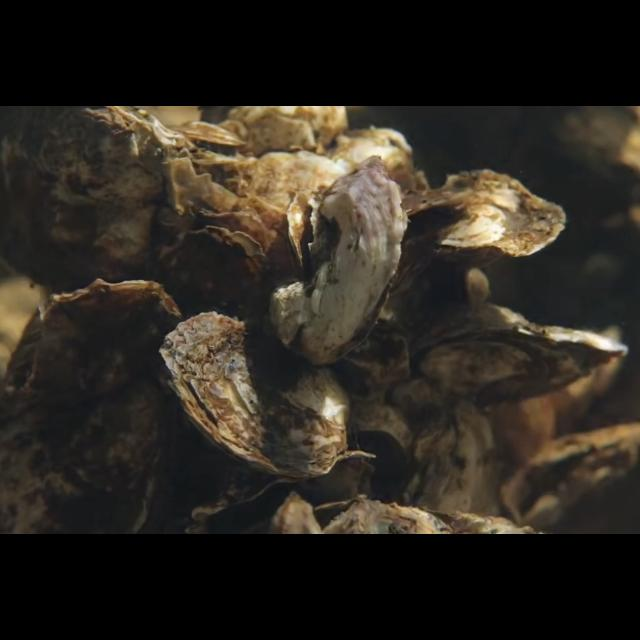Oyster-Closed: (0, 279, 184, 535), (0, 106, 216, 296), (154, 310, 356, 480), (269, 156, 409, 367), (388, 168, 568, 298), (402, 397, 503, 535), (152, 225, 270, 327)
Oyster-Open: (410, 301, 630, 407), (191, 450, 377, 534), (502, 422, 640, 534)
